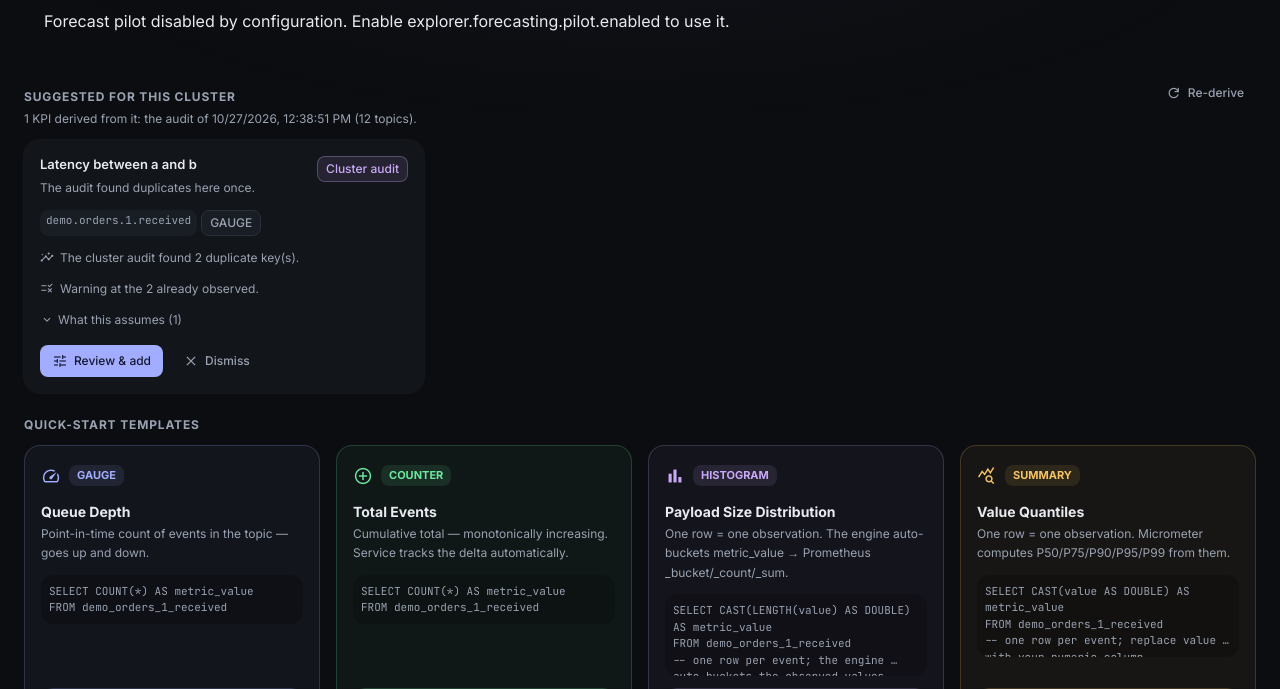
Test case: Metrics page › puts the scan window of a two-query template on the form
This screenshot has width=1280, height=689.
(page scrolled)
expect the text "Latency between a and b" is shown: met, box [40,156,197,172]
Click the button "Review & add" at (102, 360), box [40,344,163,376]
(page scrolled)
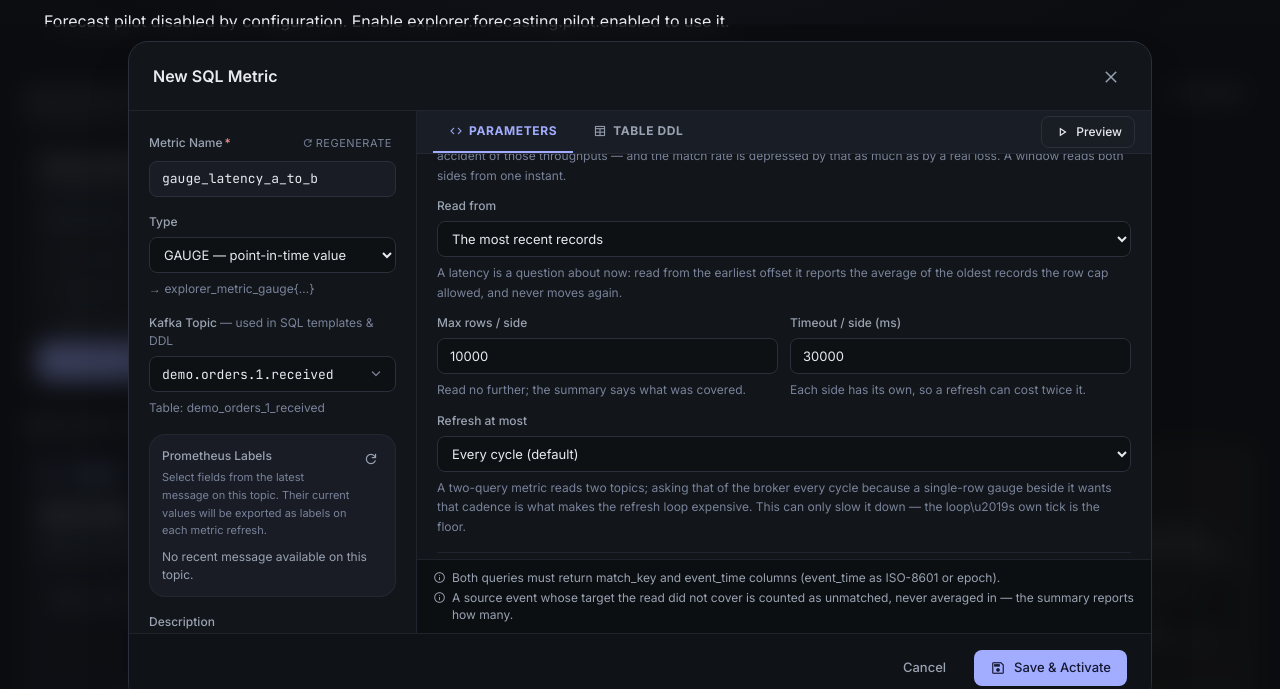
expect the dropdown labelled "Read from" shows "The most recent records": met, box [437,221,1131,257]
expect the number field labelled "Max rows / side" holds "10000": met, box [437,338,778,374]
expect the number field labelled "Timeout / side (ms)" holds "30000": met, box [790,338,1131,374]
